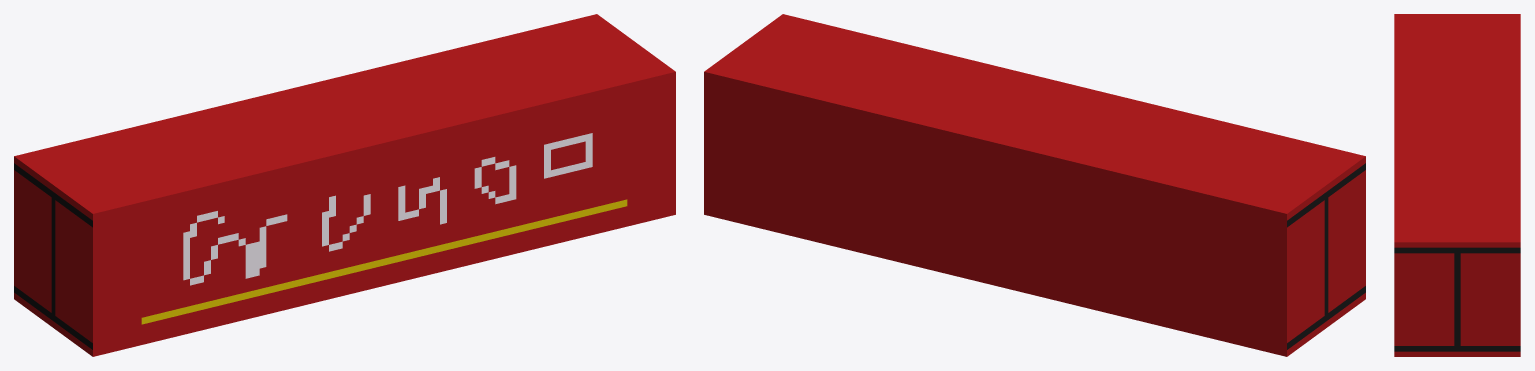
File: shippingcontainer.fbx
3 views of the same model, side by side, from view 1: azimuth 30°, elevation 25°; view 2: azimuth 150°, elevation 25°; view 3: azimuth 270°, elevation 25° (orthographic). The views are drawn at different scales.
Visible parts, largest first — view 1: Cube; view 2: Cube; view 3: Cube.
Part boxes in pixels (x1,y1,x2,y2): Cube: [14, 14, 675, 356]; Cube: [704, 14, 1365, 356]; Cube: [1394, 14, 1520, 356].
Bounding box in the file's own units: 1280 × 300 × 300.
